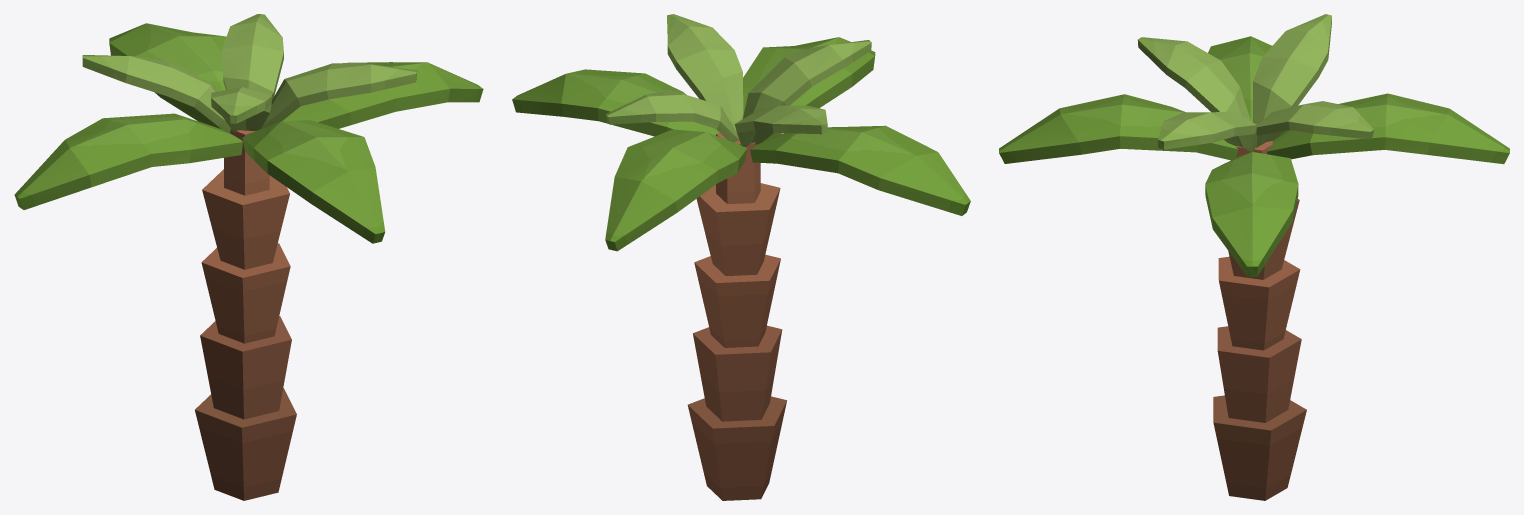
Rendered from palm_tree.glb.
3 views of the same model, side by side, from view 1: azimuth 30°, elevation 25°; view 2: azimuth 150°, elevation 25°; view 3: azimuth 270°, elevation 25° (orthographic). The views are drawn at different scales.
Visible parts, largest first — view 1: palm tree; view 2: palm tree; view 3: palm tree.
Boxes of the visible parts, box(x1,y1,x2,y2) form: palm tree: box(14, 14, 483, 500); palm tree: box(512, 14, 970, 500); palm tree: box(999, 14, 1509, 500).
Size of the model in its own units: 3.37 by 3.04 by 3.36.
Materials: 1 (1 with a texture image).
